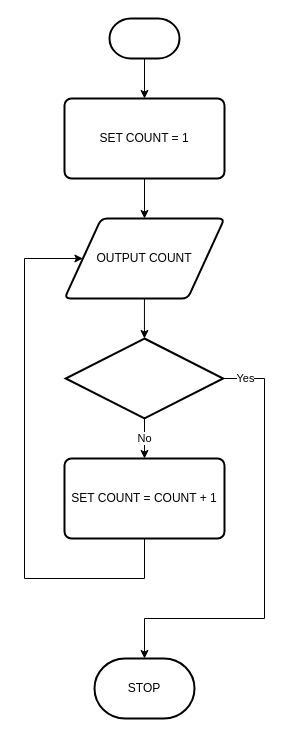
Some shapes in this 290 by 736 pixel diagram are drawn without their labels. The shapes that lost their labels are listed below. From the top down, each one's box as (x1, y1, x2, y2) in pixels, then its label:
(108, 17, 180, 59): START
(64, 337, 224, 419): COUNT = 10?
